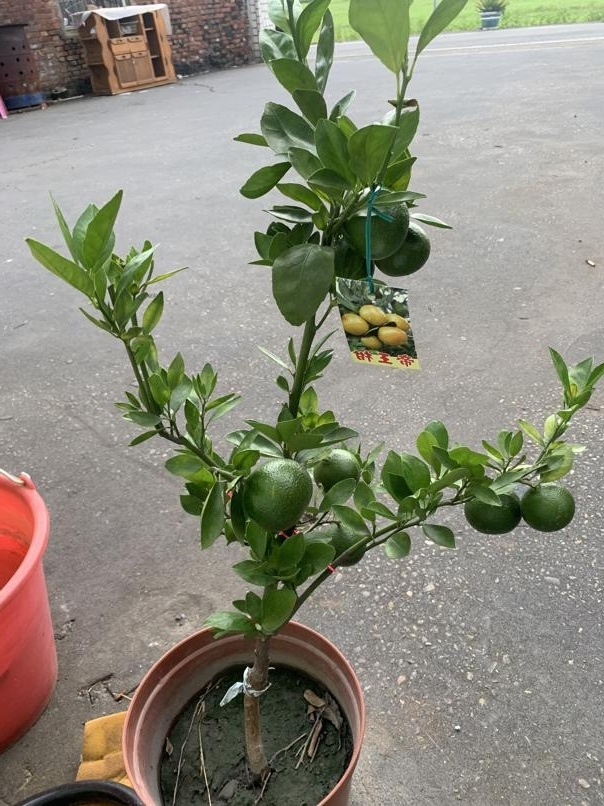Tangerine: (239, 452, 314, 534), (517, 477, 575, 533)
